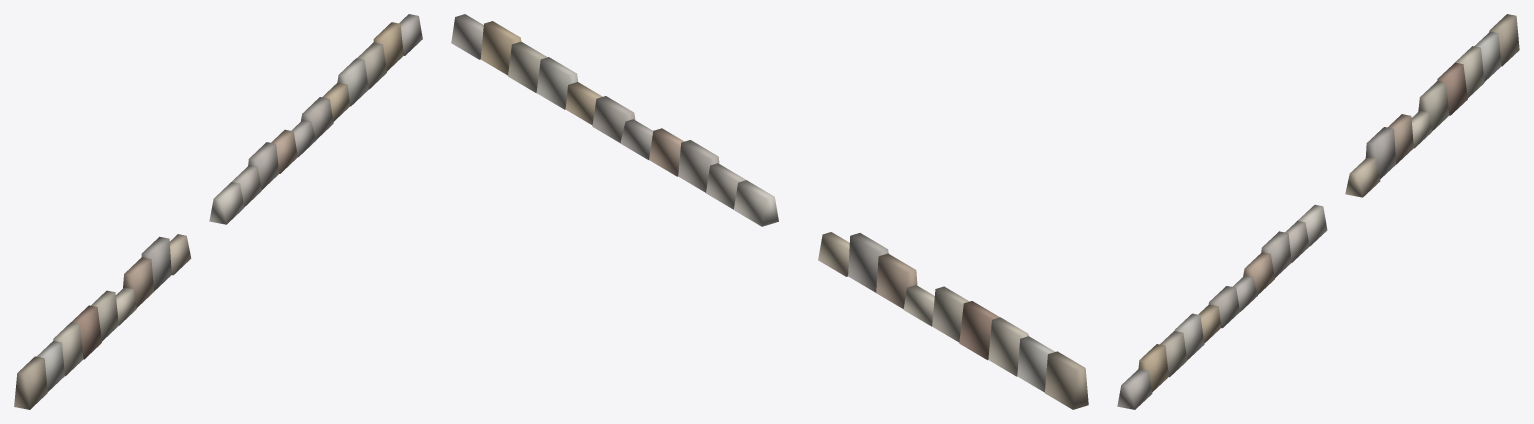
Rendered from farm_-8_7_collision.glb.
3 renders of one model, left to right at view 1: azimuth 90°, elevation 25°; view 2: azimuth 150°, elevation 25°; view 3: azimuth 270°, elevation 25°, orthographic. The views are drawn at different scales.
Visible parts, largest first — view 1: geometry_0; view 2: geometry_0; view 3: geometry_0.
Boxes of the visible parts, left/top/right/bottom form: geometry_0: left=14, top=14, right=422, bottom=409; geometry_0: left=451, top=14, right=1088, bottom=409; geometry_0: left=1117, top=14, right=1519, bottom=409.
Size of the model in its own units: 32.37 by 1.5 by 15.06.
